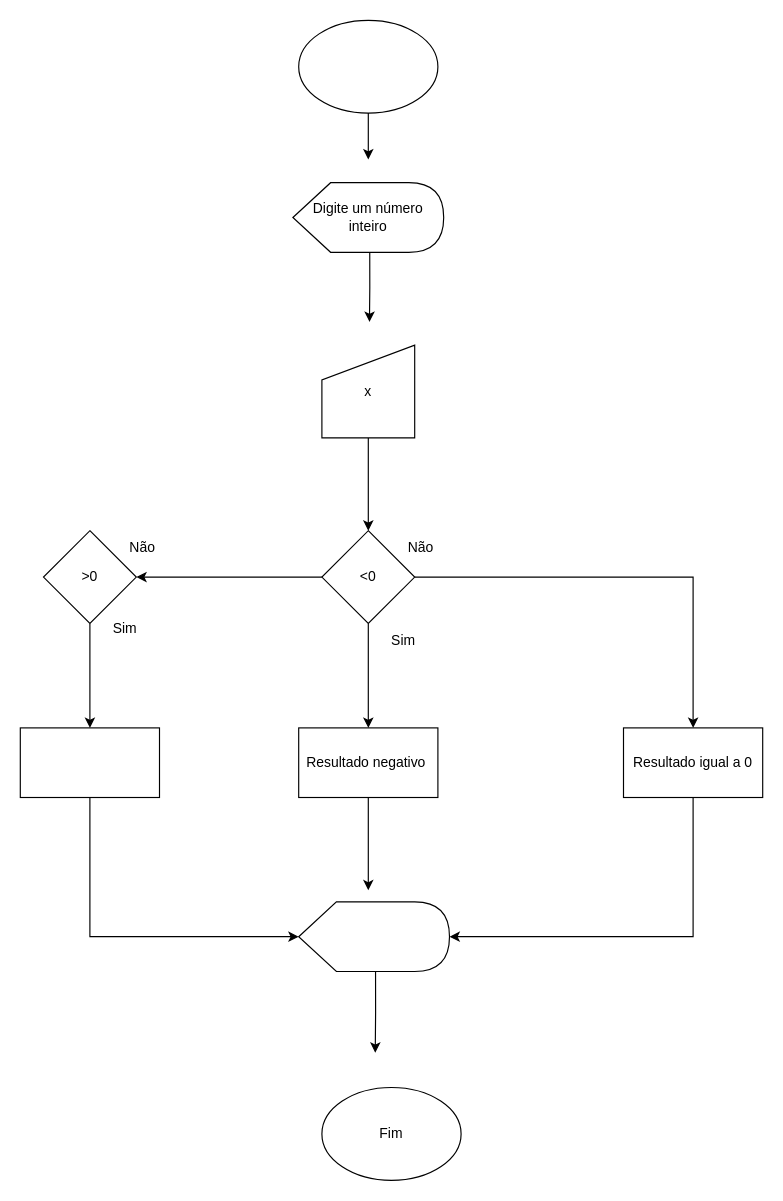
Image size: 783x1201. Some labels were removed from this diagram. Each missing label, with the centre of its shape:
"início" goes at point 368,66.
"O número e (R)" goes at point 373,936.
"Resultado posotivo" goes at point 89,762.
